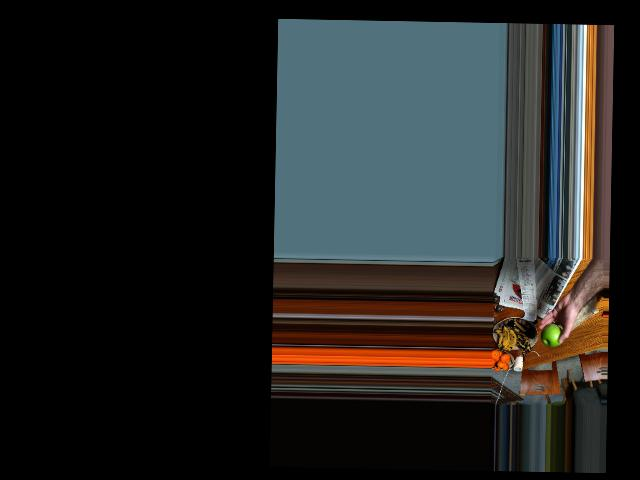apple: (540, 319, 566, 348)
